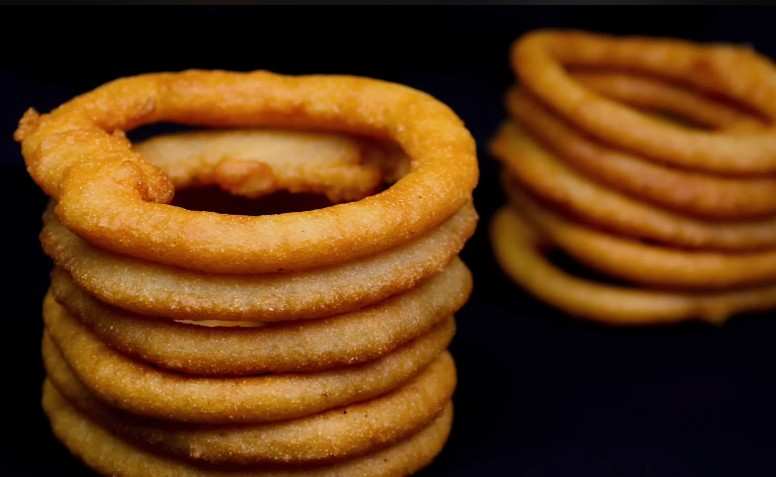sel_roti: (20, 69, 482, 276), (517, 34, 776, 176)
